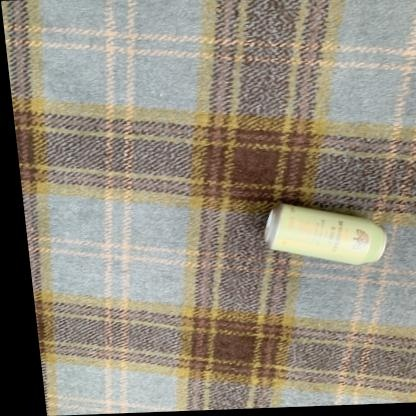trash: (265, 204, 386, 264)
